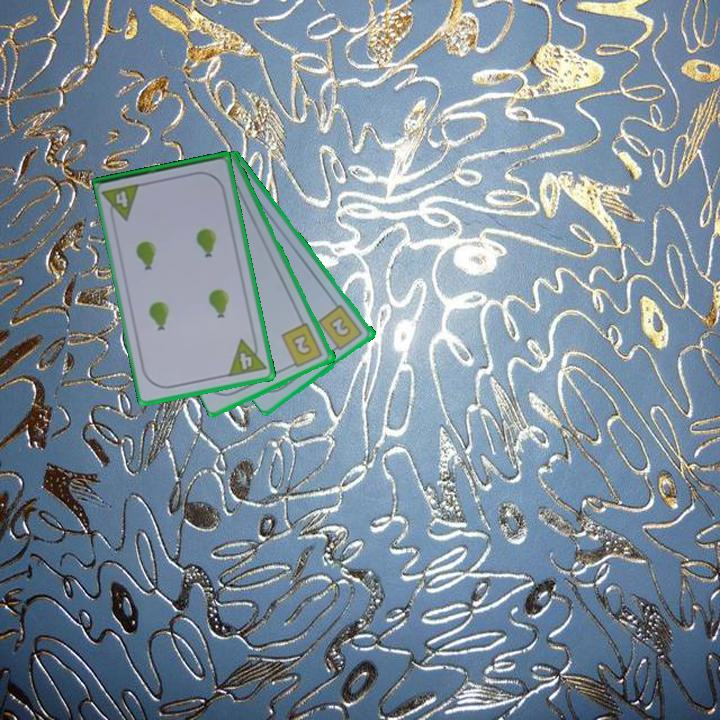2b: (315, 301, 366, 355), (278, 320, 326, 371)
4p: (225, 333, 269, 380), (100, 180, 144, 225)
